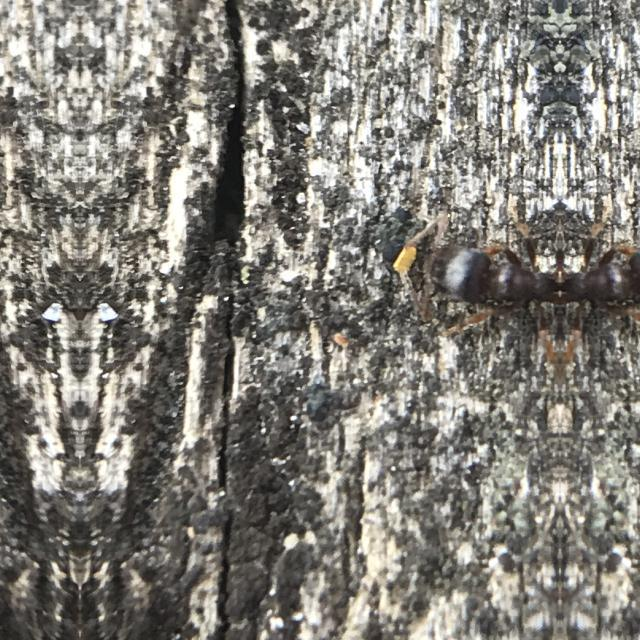Tetramorium: (412, 191, 560, 355), (560, 191, 640, 355)
